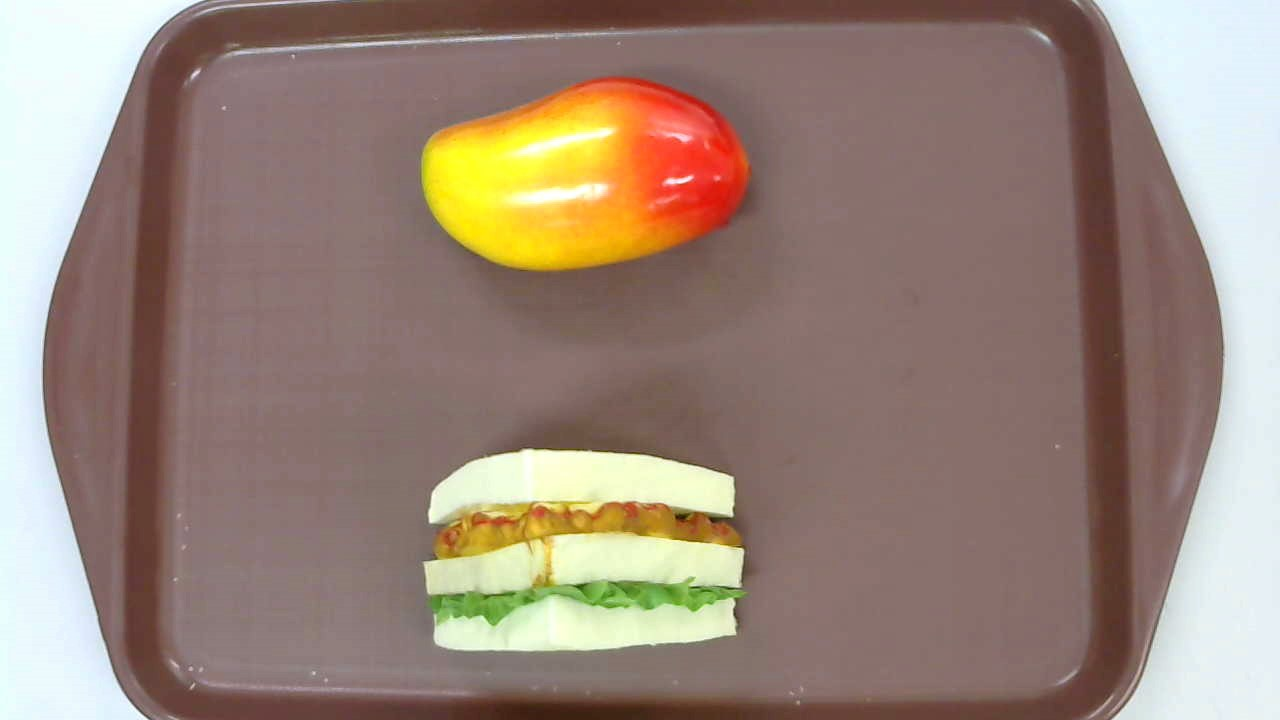red mango: (421, 77, 750, 271)
sandwich: (421, 445, 747, 652)
